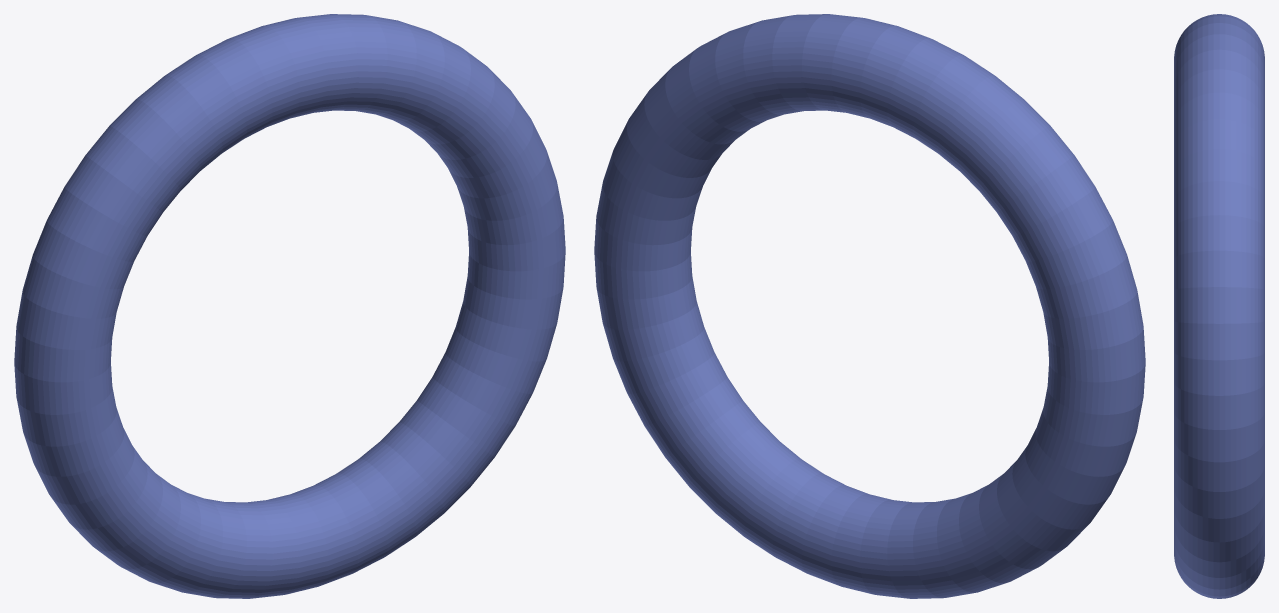
3 views of the same model, side by side, from view 1: azimuth 30°, elevation 25°; view 2: azimuth 150°, elevation 25°; view 3: azimuth 270°, elevation 25° (orthographic). The views are drawn at different scales.
Parts seen in each view (by area): view 1: world; view 2: world; view 3: world.
Part boxes in pixels (x1,y1,x2,y2): world: (14, 14, 565, 598); world: (594, 14, 1145, 598); world: (1174, 14, 1264, 598).
Bounding box in the file's own units: 19.73 × 19.69 × 3.06.
